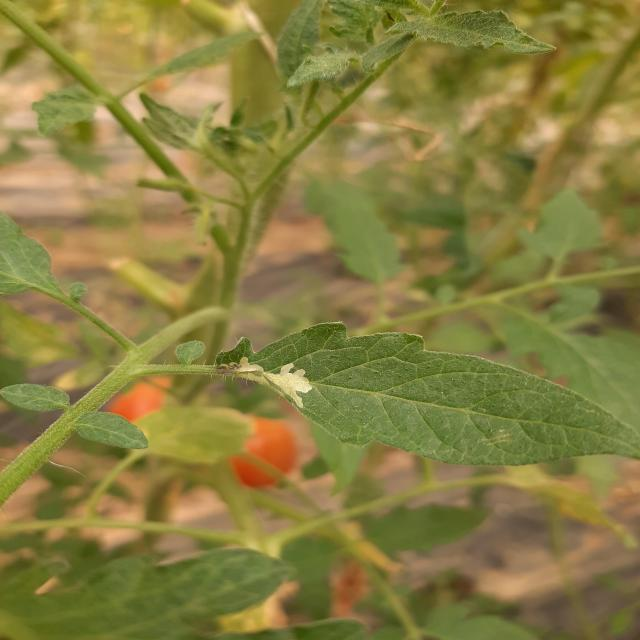Tuta absoluta: (208, 334, 323, 414)
